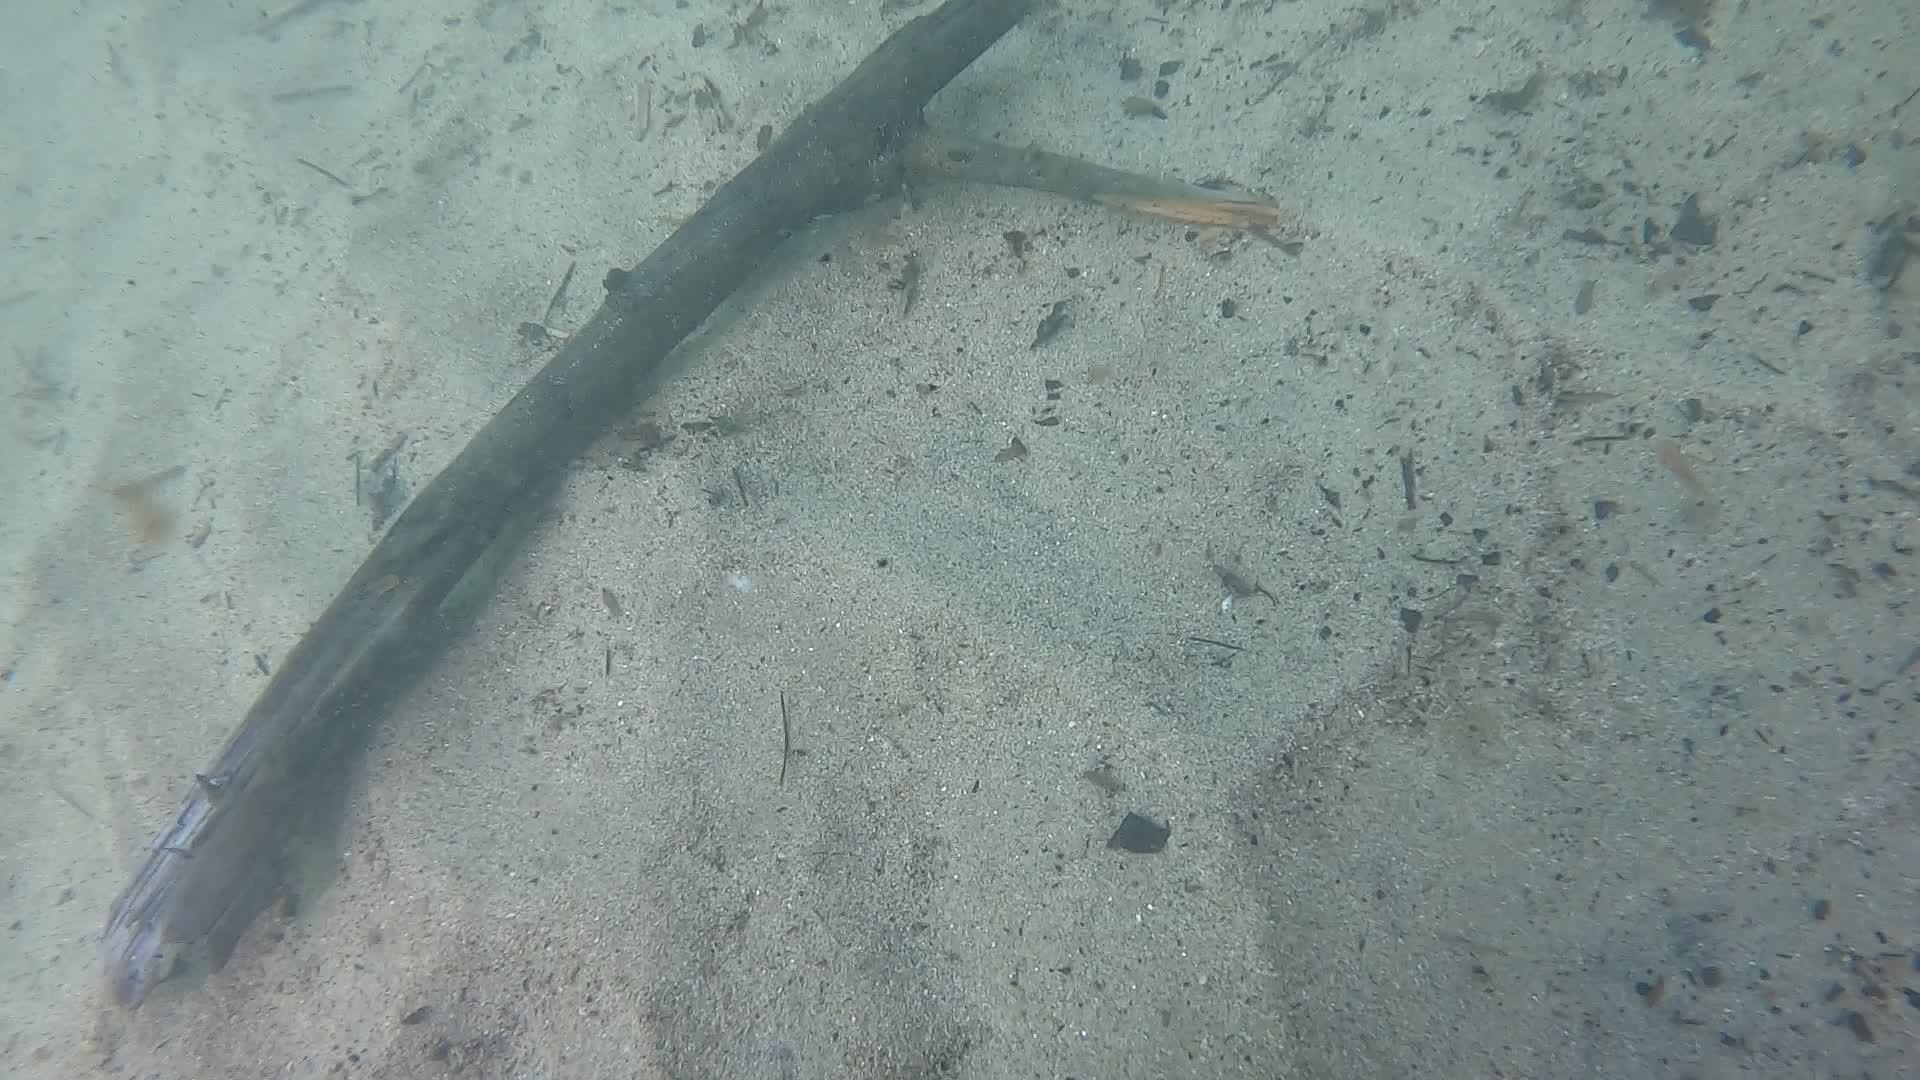wood: (91, 3, 1273, 1018)
